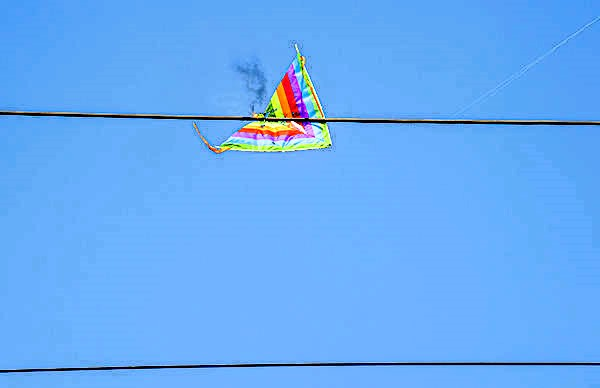wire foreign body: (204, 40, 352, 168)
